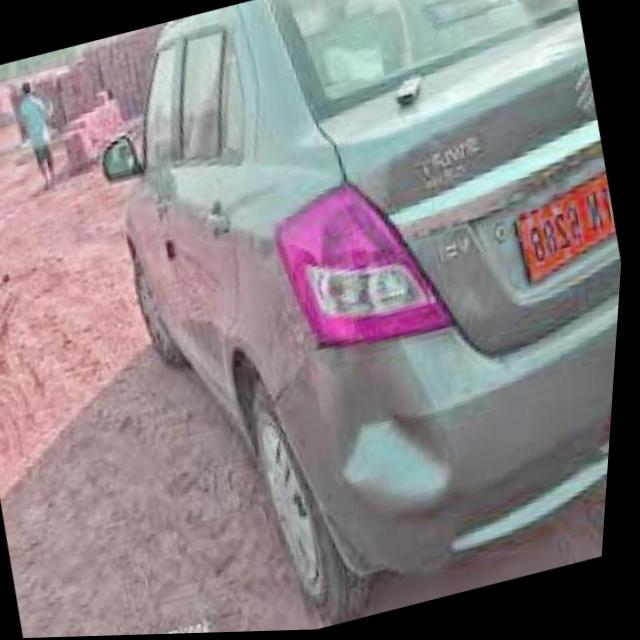Car-Damage: (306, 329, 473, 529)
